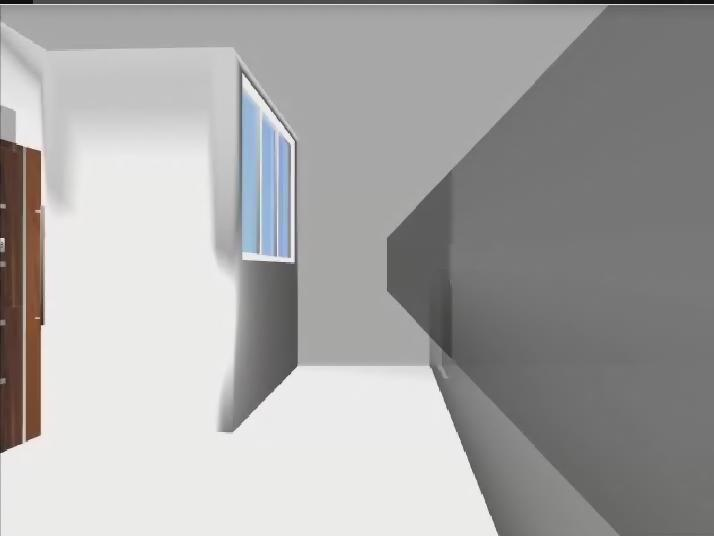door: (1, 139, 46, 453)
